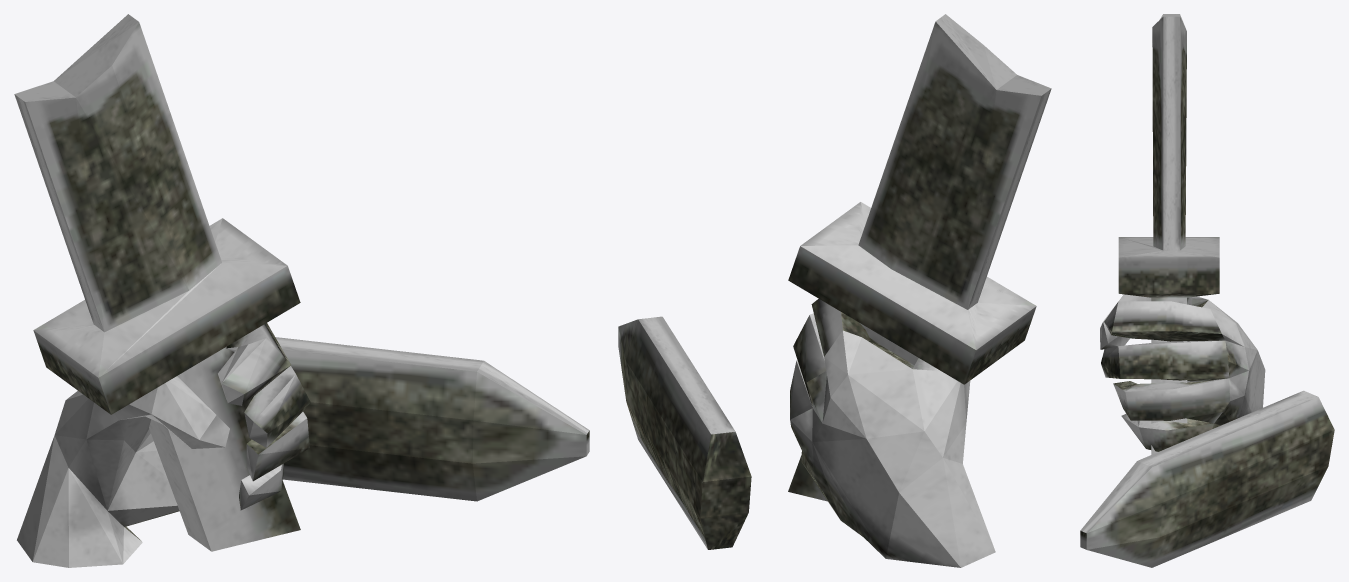
File: ob-bigstatue02_lod_01.fbx
The picture shows the model from 3 angles, left to right: view 1: azimuth 30°, elevation 25°; view 2: azimuth 150°, elevation 25°; view 3: azimuth 270°, elevation 25°; orthographic projection. The views are drawn at different scales.
Parts seen in each view (by area): view 1: Object01; view 2: Object01; view 3: Object01.
Part boxes in pixels (x1=…): Object01: x1=14, y1=14, x2=589, y2=567; Object01: x1=618, y1=14, x2=1051, y2=567; Object01: x1=1080, y1=14, x2=1334, y2=567.
Size of the model in its own units: 5.81 by 5.88 by 3.2.
